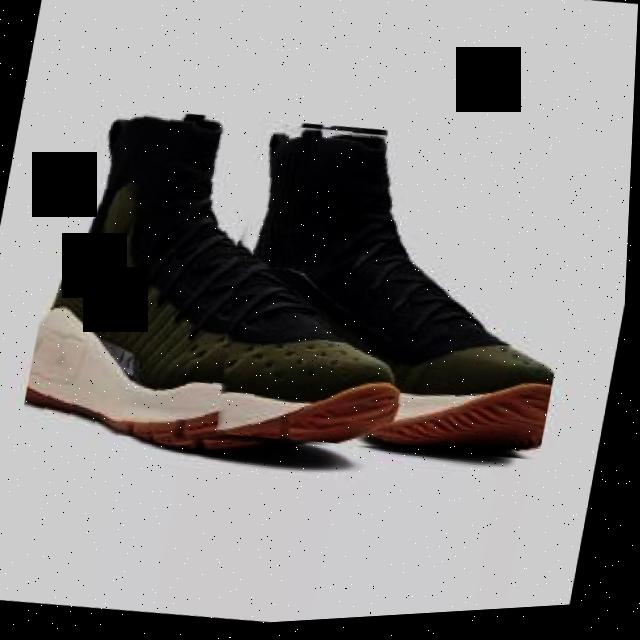shoe: (22, 89, 437, 483), (198, 110, 599, 483)
